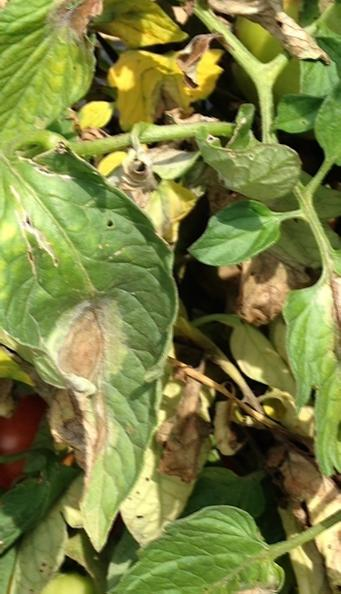Tomato leaf late blight: (0, 123, 171, 550), (65, 505, 303, 594), (0, 0, 115, 176), (290, 230, 341, 481)
